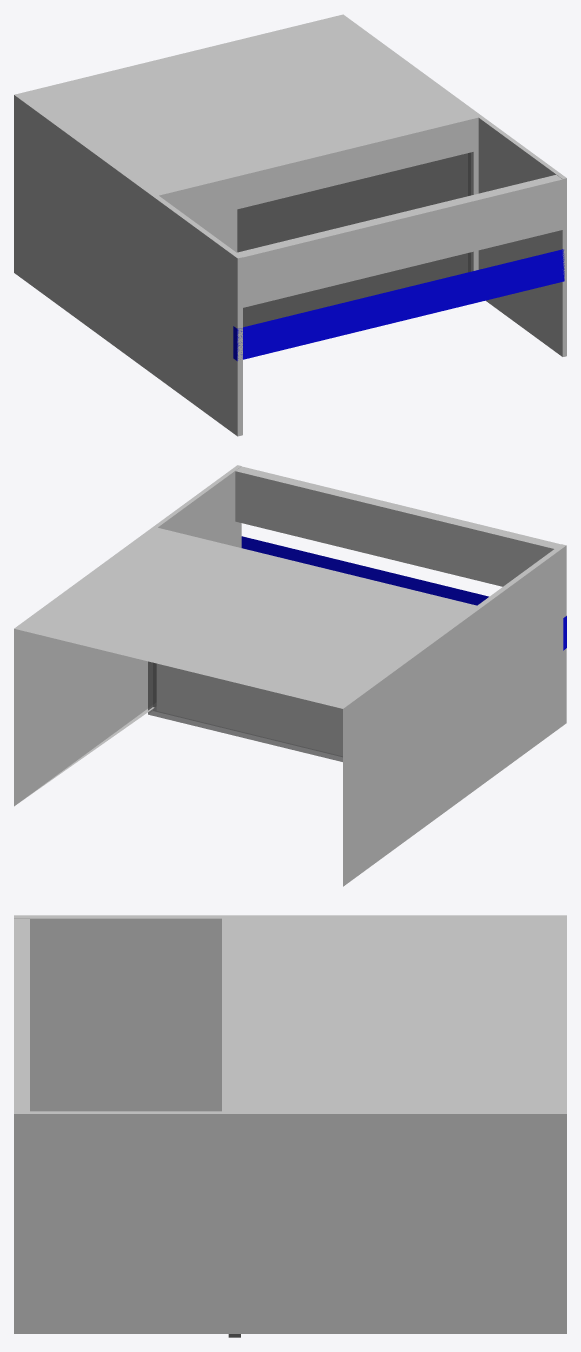
The model's file is edificio 2.fbx.
3 views of the same model, one above another, from view 1: azimuth 30°, elevation 25°; view 2: azimuth 150°, elevation 25°; view 3: azimuth 270°, elevation 25° (orthographic). The views are drawn at different scales.
Visible parts, largest first — view 1: BASE, Puertas y Ventanas, Cartel; view 2: BASE, Cartel, Puertas y Ventanas; view 3: BASE.
Part boxes in pixels (left/top/right/bottom): BASE: left=14, top=14, right=566, bottom=436; Puertas y Ventanas: left=237, top=152, right=470, bottom=327; Cartel: left=233, top=249, right=564, bottom=361; BASE: left=14, top=465, right=566, bottom=886; Cartel: left=241, top=536, right=566, bottom=650; Puertas y Ventanas: left=148, top=661, right=342, bottom=761; BASE: left=14, top=915, right=566, bottom=1333.
Size of the model in its own units: 512 by 270 by 602.
